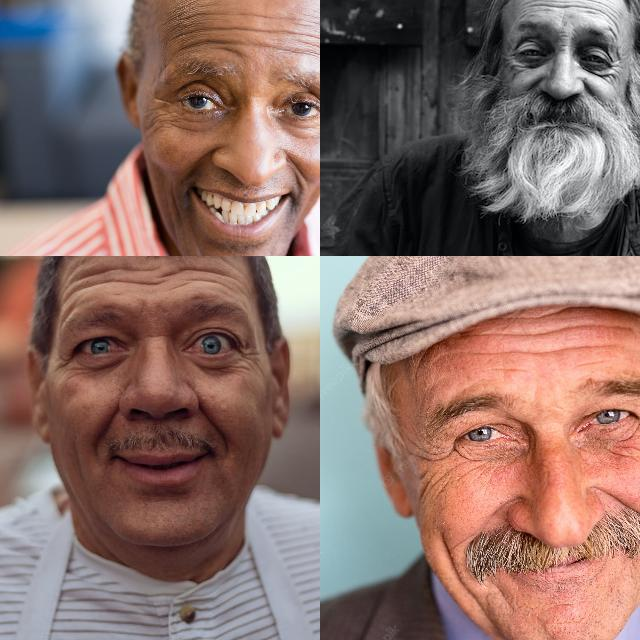crows_feet: (418, 434, 452, 481), (236, 339, 264, 376), (154, 93, 178, 127), (49, 348, 77, 374), (506, 51, 520, 73), (607, 60, 619, 82)
forehead: (484, 320, 632, 358), (186, 256, 240, 292), (68, 256, 124, 288), (135, 258, 181, 294), (173, 22, 205, 54), (214, 34, 248, 64), (217, 15, 257, 40), (266, 24, 296, 54), (571, 0, 611, 19), (301, 26, 320, 64), (530, 0, 566, 10)
frown_line: (140, 327, 166, 341), (556, 30, 570, 50)
gummy_smile: (474, 491, 520, 523), (197, 402, 231, 442), (90, 402, 124, 442), (600, 486, 640, 511), (288, 154, 310, 190), (578, 78, 600, 102), (524, 76, 542, 92)
masseter: (434, 526, 472, 590), (165, 189, 182, 219)
